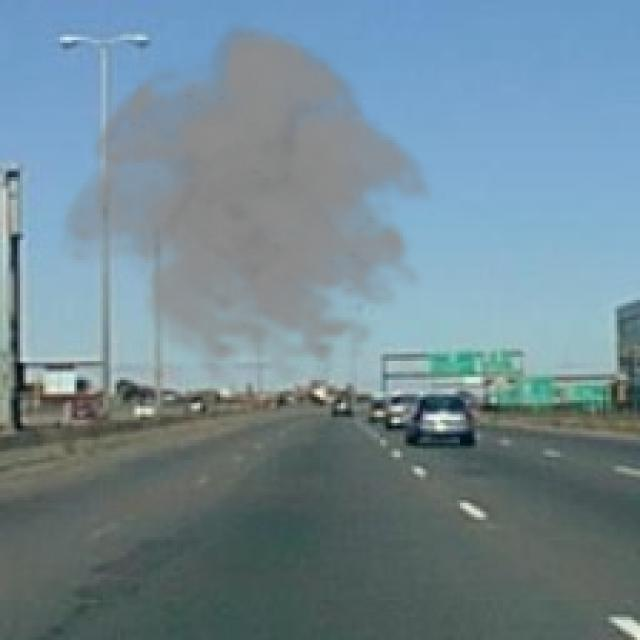Smoke: (54, 20, 446, 386)
